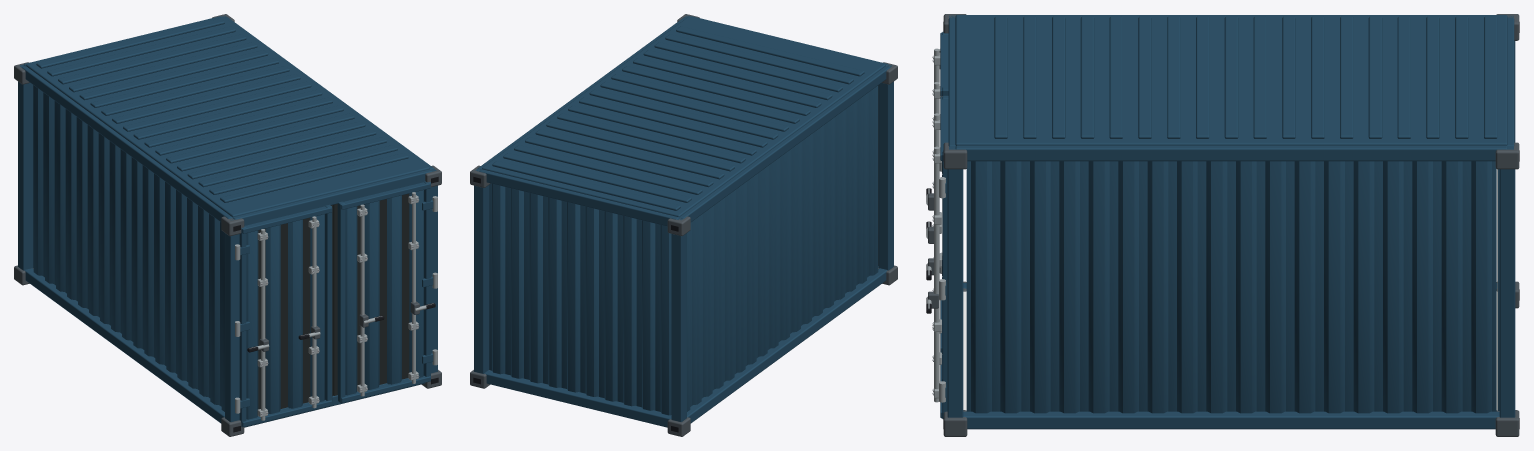
The model's file is container-v2.glb.
3 renders of one model, left to right at view 1: azimuth 30°, elevation 25°; view 2: azimuth 150°, elevation 25°; view 3: azimuth 270°, elevation 25°, orthographic. The views are drawn at different scales.
Parts seen in each view (by area): view 1: Container enamel (×3), Door seals (×2), Galvanised fittings (×2), Dark steel; view 2: Container enamel, Dark steel; view 3: Container enamel (×3), Galvanised fittings (×2), Dark steel, Plywood face.
Boxes of the visible parts, <box> form: Container enamel (×3): <box>18,15,437,427</box>; Door seals (×2): <box>258,193,409,409</box>; Galvanised fittings (×2): <box>235,192,437,420</box>; Dark steel: <box>14,14,441,436</box>; Container enamel: <box>474,15,893,427</box>; Dark steel: <box>470,14,897,436</box>; Container enamel (×3): <box>940,15,1515,429</box>; Galvanised fittings (×2): <box>926,48,945,402</box>; Dark steel: <box>943,14,1519,436</box>; Plywood face: <box>963,291,1497,410</box>.
Size of the model in its own units: 2.91 by 2.86 by 5.27.
